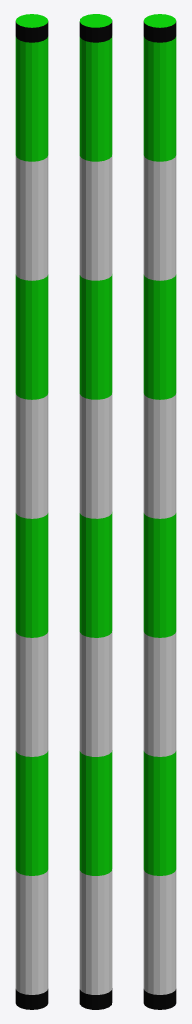
Rendered from SlalomPole.fbx.
3 views of the same model, side by side, from view 1: azimuth 90°, elevation 25°; view 2: azimuth 210°, elevation 25°; view 3: azimuth 270°, elevation 25° (orthographic).
Visible parts, largest first — view 1: Cylinder; view 2: Cylinder; view 3: Cylinder.
Boxes of the visible parts, x1,y1,x2,y2 form: Cylinder: [15, 14, 48, 1009]; Cylinder: [79, 14, 112, 1009]; Cylinder: [143, 14, 176, 1009].
Size of the model in its own units: 5 by 165 by 5.
